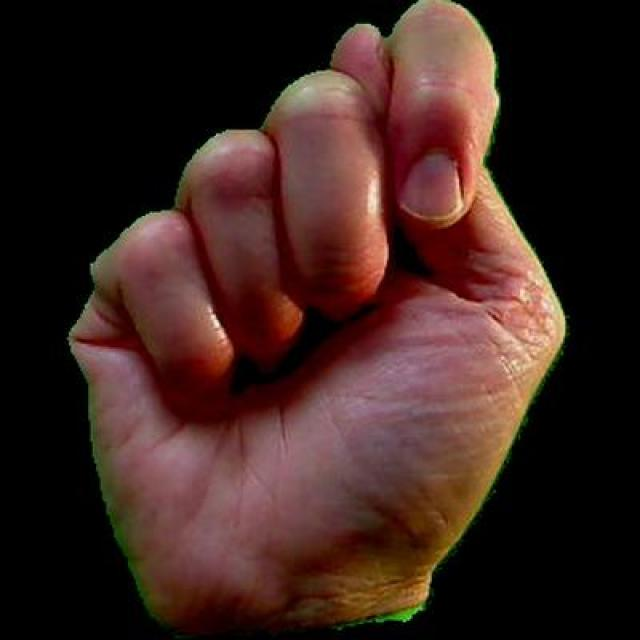t: (48, 0, 587, 637)
